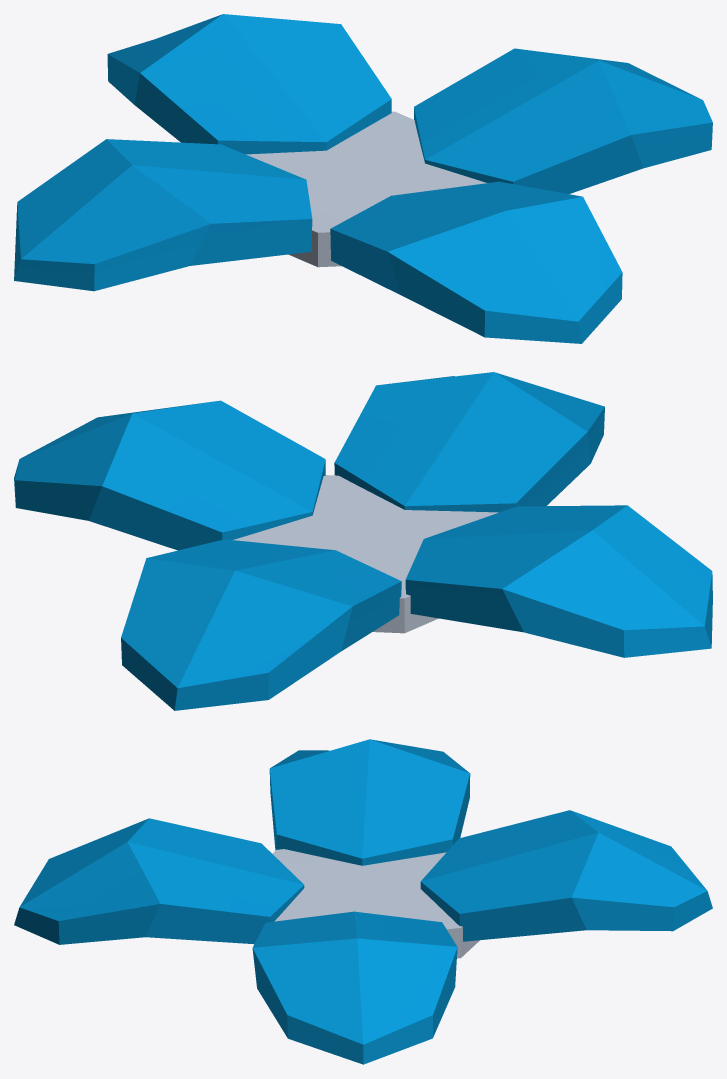
Rendered from Planta1.fbx.
The picture shows the model from 3 angles, top to bottom: view 1: azimuth 30°, elevation 25°; view 2: azimuth 150°, elevation 25°; view 3: azimuth 270°, elevation 25°; orthographic projection. The views are drawn at different scales.
Visible parts, largest first — view 1: Planta1; view 2: Planta1; view 3: Planta1.
Part boxes in pixels (x1=…): Planta1: x1=14, y1=14, x2=712, y2=343; Planta1: x1=14, y1=372, x2=712, y2=710; Planta1: x1=14, y1=739, x2=712, y2=1064.
Size of the model in its own units: 54.84 by 54.72 by 7.64.
